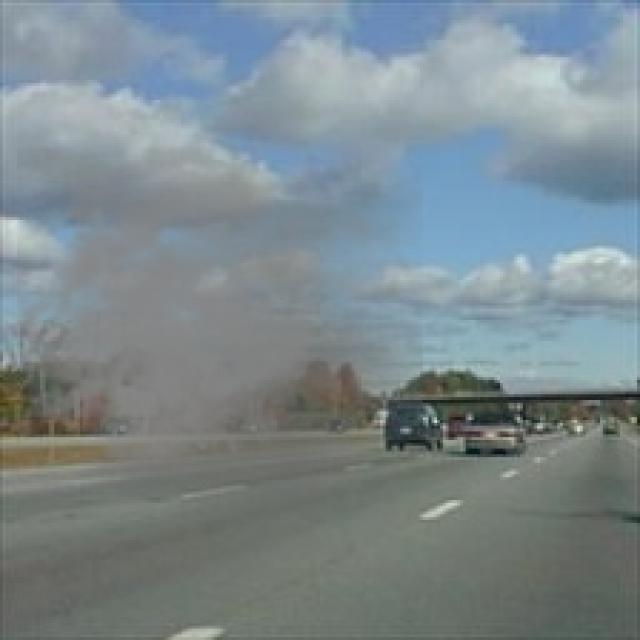smoke: (3, 145, 423, 526)
